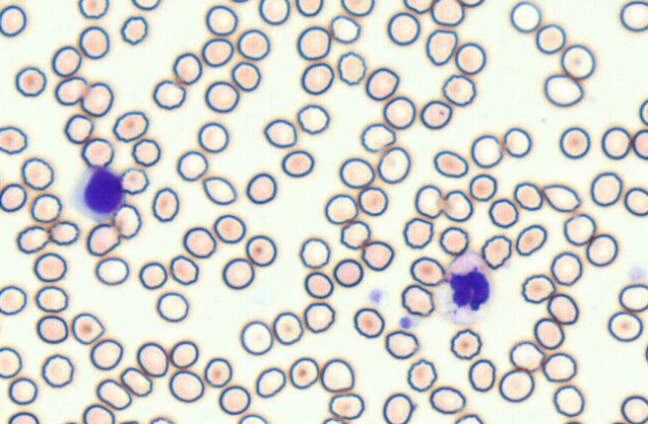GRAN: (436, 248, 494, 325)
MONO: (70, 165, 126, 219)
PLT: (399, 314, 418, 329), (369, 289, 384, 304)
RBC: (543, 74, 583, 107), (560, 43, 595, 79), (498, 368, 534, 402), (377, 146, 410, 183), (319, 358, 354, 392), (296, 25, 330, 60), (365, 66, 399, 101), (168, 369, 204, 402), (240, 320, 273, 355), (204, 80, 239, 113), (441, 73, 476, 106), (112, 110, 148, 142), (81, 81, 113, 117), (136, 341, 168, 377), (300, 62, 334, 95), (41, 353, 74, 387), (585, 233, 618, 267), (387, 11, 420, 45), (470, 134, 503, 168), (480, 234, 512, 269), (550, 251, 582, 286), (590, 171, 622, 206), (338, 157, 374, 188), (607, 311, 643, 342), (401, 283, 434, 316), (563, 213, 596, 246), (21, 157, 54, 190), (382, 96, 415, 129), (89, 338, 123, 370), (182, 226, 216, 258), (509, 340, 544, 371), (520, 273, 555, 304), (409, 256, 445, 286), (221, 257, 254, 289), (449, 328, 482, 360), (552, 384, 584, 417), (237, 28, 270, 60), (454, 41, 486, 74), (324, 193, 358, 224), (406, 358, 437, 392), (152, 79, 186, 110), (272, 311, 303, 345), (78, 25, 109, 59), (542, 352, 577, 382), (384, 329, 419, 359), (112, 203, 141, 239), (429, 385, 465, 414), (515, 224, 547, 256), (303, 301, 335, 333), (547, 293, 579, 325), (205, 4, 237, 36), (245, 172, 277, 204), (197, 121, 229, 153), (361, 240, 394, 271), (442, 189, 473, 222), (288, 356, 319, 389), (156, 291, 189, 322), (296, 103, 329, 134), (510, 0, 541, 33), (559, 126, 590, 159), (33, 252, 67, 282), (94, 256, 129, 285), (433, 149, 468, 178), (328, 392, 364, 420), (255, 366, 286, 398), (402, 217, 433, 249), (533, 317, 564, 349), (176, 150, 208, 181), (218, 384, 250, 415), (353, 306, 384, 338), (382, 392, 414, 423), (51, 45, 82, 77), (14, 66, 46, 97), (245, 234, 276, 266), (601, 126, 631, 159), (81, 137, 114, 167), (213, 213, 246, 243), (419, 99, 452, 129), (414, 184, 443, 218), (54, 76, 88, 105), (337, 51, 366, 85), (151, 187, 179, 222), (299, 237, 330, 268), (535, 23, 566, 54), (36, 314, 68, 344), (30, 193, 62, 223), (201, 37, 233, 67), (172, 52, 202, 84), (467, 358, 495, 392), (357, 186, 388, 216), (64, 113, 94, 144), (169, 254, 199, 285), (339, 220, 371, 249), (16, 225, 49, 253), (281, 149, 314, 177), (34, 285, 68, 312), (488, 198, 518, 228), (231, 61, 261, 91), (329, 14, 360, 43), (502, 126, 531, 157), (619, 0, 647, 32), (430, 0, 464, 26), (333, 258, 363, 287), (7, 376, 37, 405), (203, 357, 232, 387), (513, 181, 543, 210), (0, 4, 26, 37), (439, 226, 468, 255), (131, 138, 160, 167), (618, 283, 647, 312), (303, 271, 333, 299), (120, 15, 148, 45), (0, 284, 27, 315), (169, 340, 198, 368), (120, 166, 149, 194), (468, 173, 497, 201), (138, 261, 167, 289), (0, 182, 27, 212), (258, 0, 290, 25), (0, 125, 27, 154), (620, 394, 647, 423), (48, 220, 79, 245), (0, 346, 22, 378), (624, 186, 647, 216), (82, 403, 115, 423), (77, 0, 109, 19), (340, 0, 374, 16), (632, 128, 647, 159), (295, 0, 323, 16), (403, 0, 433, 13), (7, 411, 39, 423), (237, 413, 268, 423), (454, 413, 483, 423), (131, 0, 160, 10), (638, 98, 647, 126), (321, 416, 348, 423), (459, 0, 484, 7), (149, 416, 174, 423), (561, 418, 584, 423), (116, 419, 139, 424), (609, 419, 629, 424), (60, 419, 79, 424), (644, 342, 648, 363), (229, 0, 249, 3)
Schistocyte: (96, 378, 133, 411), (541, 184, 582, 213), (426, 28, 457, 66), (201, 175, 238, 206), (72, 312, 105, 345), (361, 123, 397, 152), (120, 367, 154, 397), (264, 119, 298, 148)
